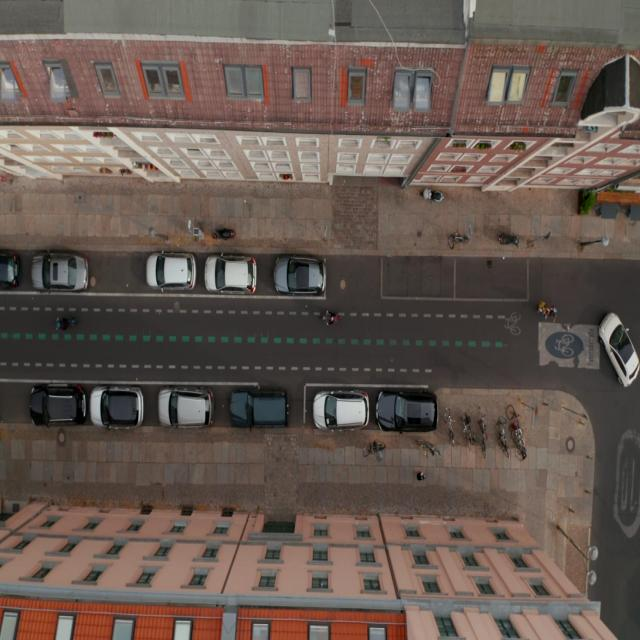Car: (598, 311, 640, 388), (376, 390, 438, 436), (230, 387, 290, 433), (31, 248, 90, 294), (90, 384, 144, 432), (29, 382, 86, 427), (312, 388, 370, 432), (156, 384, 214, 428), (146, 248, 196, 294), (204, 251, 257, 294), (274, 255, 326, 298), (0, 252, 21, 290)
Cycle: (478, 406, 488, 458), (506, 404, 520, 441), (497, 413, 509, 456), (443, 407, 456, 446), (416, 438, 440, 459), (361, 441, 386, 459), (448, 232, 472, 249), (421, 187, 444, 204), (212, 227, 236, 242), (499, 233, 520, 249), (56, 317, 78, 332), (318, 314, 343, 322)
